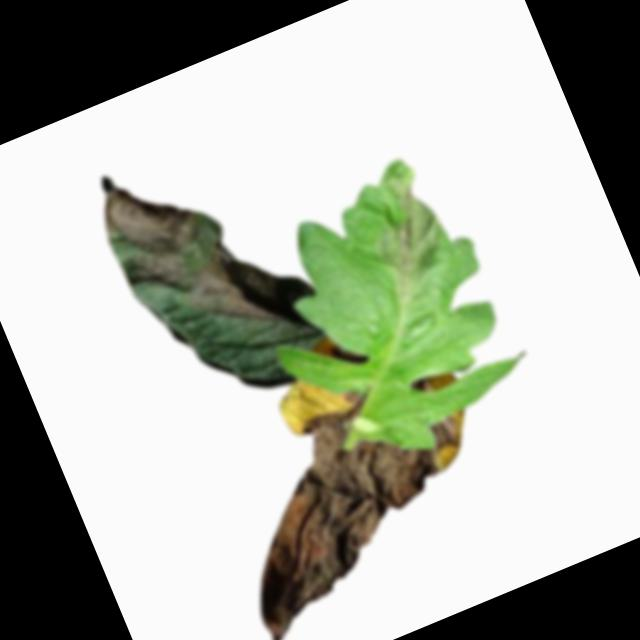Late_blight: (194, 361, 507, 640), (85, 146, 215, 298), (356, 164, 463, 298), (179, 245, 268, 347)
